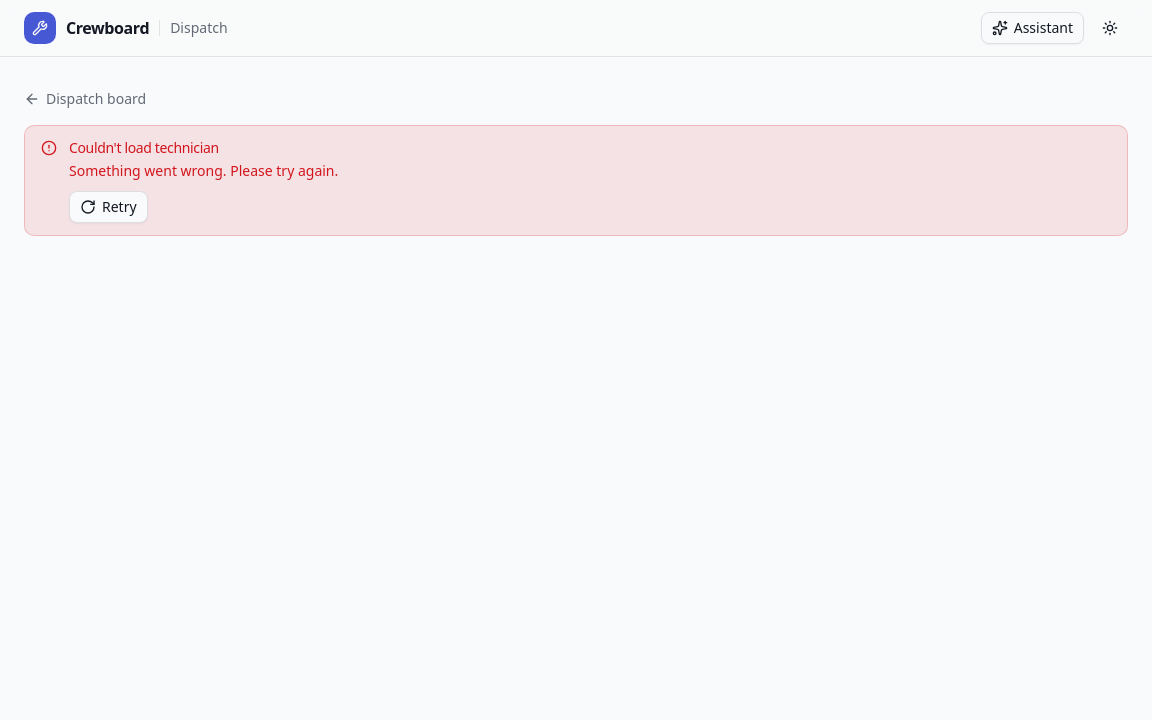
Test case: TechnicianProfilePage › shows the error with a retry when the technician fails to load
This screenshot has width=1152, height=720.
Expected: the message shows "Couldn't load technician", [69,138,219,157]
Expected: the message shows "Something went wrong. Please try again.", [69,161,338,180]
Click the button "Retry" at (108, 207), box [69,191,148,223]
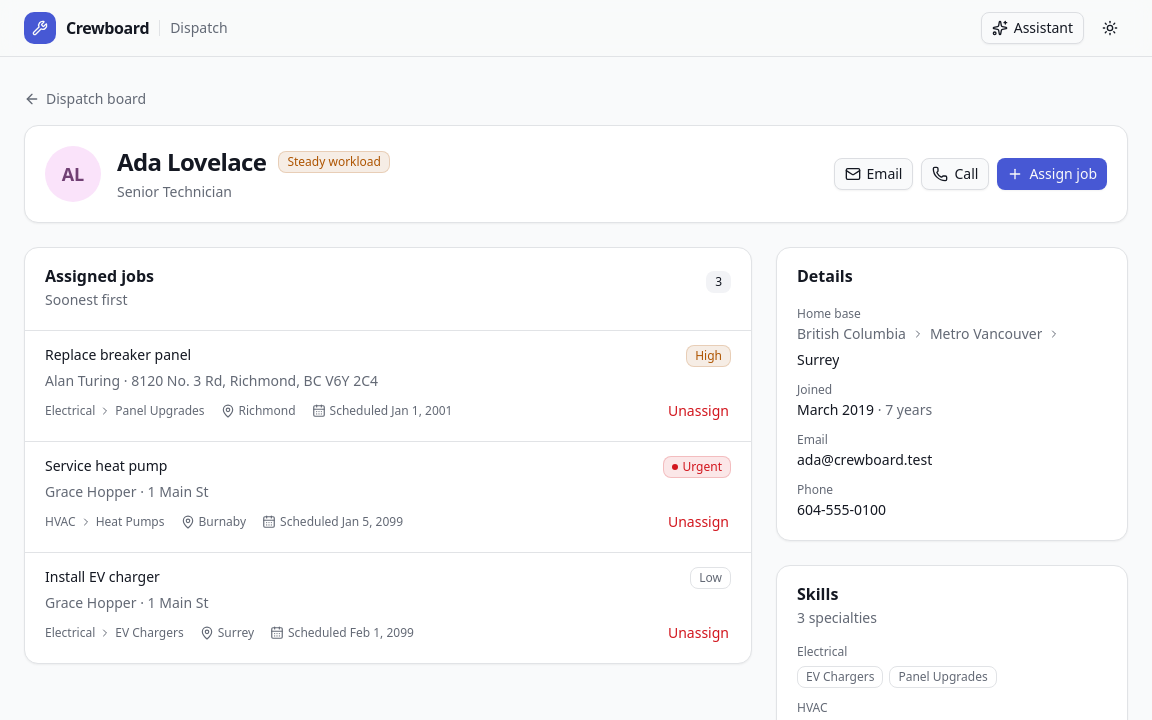
Now the heading "Ada Lovelace" is shown, box [117,146,266,178]
